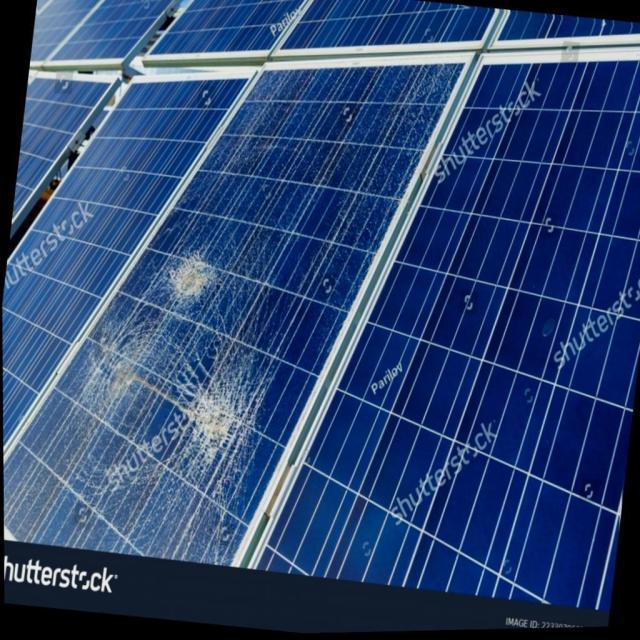cracked: (41, 66, 461, 564)
